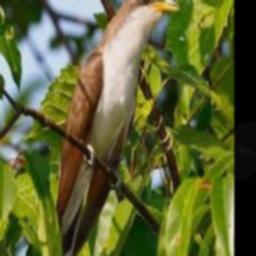Cuckoo: (48, 0, 178, 256)
